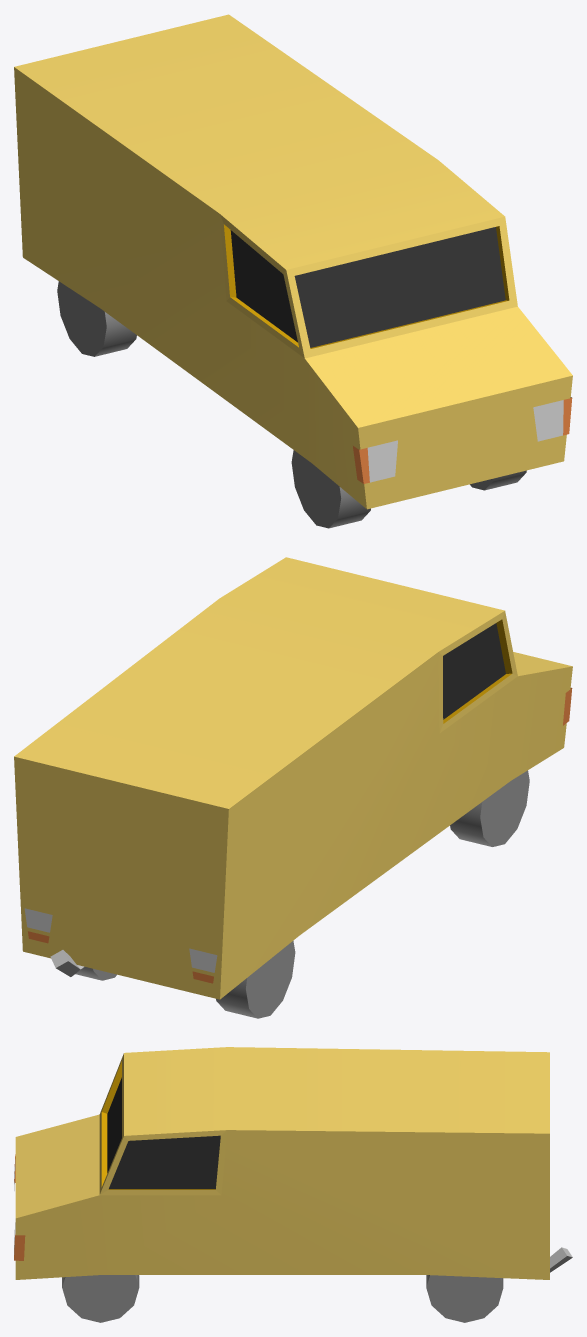
File: van_05.fbx
3 views of the same model, one above another, from view 1: azimuth 30°, elevation 25°; view 2: azimuth 150°, elevation 25°; view 3: azimuth 270°, elevation 25° (orthographic). The views are drawn at different scales.
Parts seen in each view (by area): view 1: van_05; view 2: van_05; view 3: van_05.
Boxes of the visible parts, left/top/right/bottom form: van_05: left=14, top=14, right=572, bottom=528; van_05: left=14, top=557, right=572, bottom=1018; van_05: left=14, top=1047, right=572, bottom=1322.
Size of the model in its own units: 1.61 by 1.8 by 4.59.
